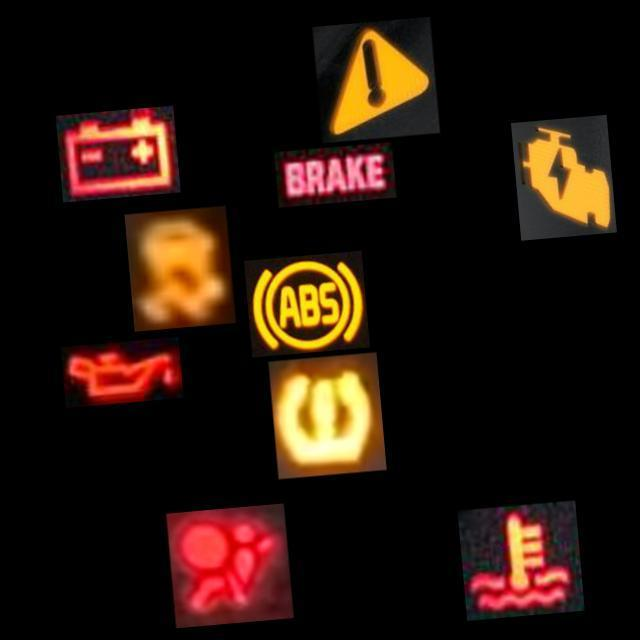Central Warning lamp: (312, 16, 439, 142)
Engine cooling system: (457, 500, 584, 620)
